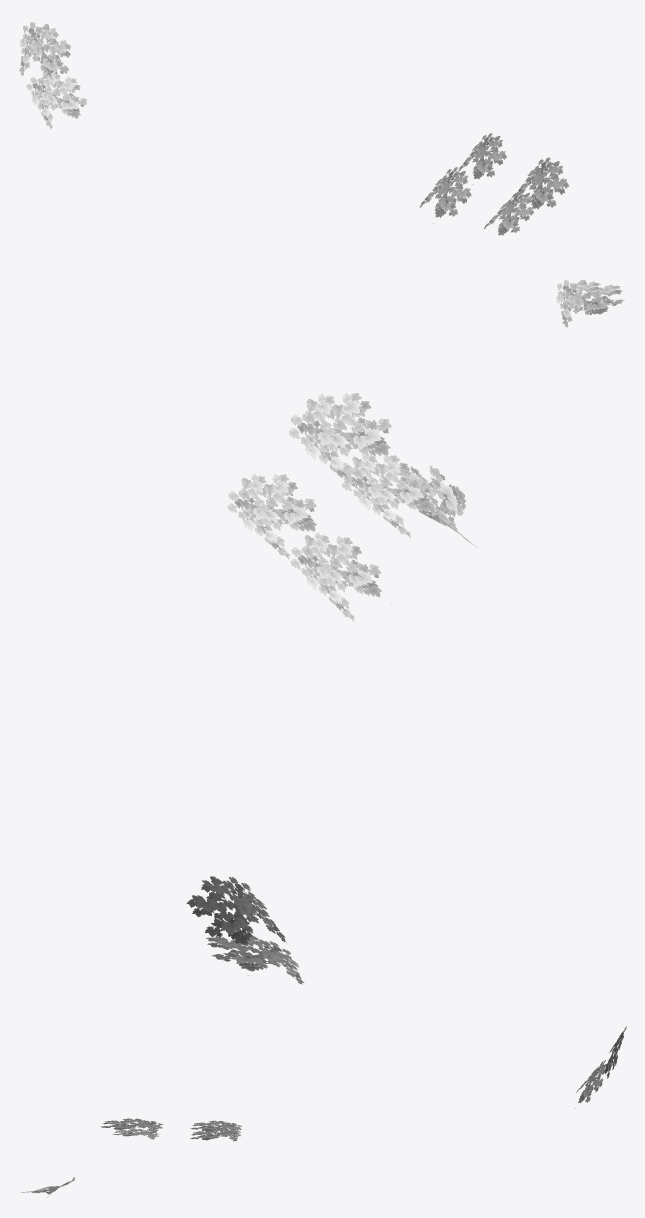
The model's file is Forest_building_056_16a.FBX.
3 renders of one model, top to bottom at view 1: azimuth 30°, elevation 25°; view 2: azimuth 150°, elevation 25°; view 3: azimuth 270°, elevation 25°, orthographic. The views are drawn at different scales.
Parts seen in each view (by area): view 1: Forest_building_056_16a; view 2: Forest_building_056_16a; view 3: Forest_building_056_16a.
Part boxes in pixels (x1,y1,x2,y2): Forest_building_056_16a: [19, 22, 624, 327]; Forest_building_056_16a: [186, 393, 477, 984]; Forest_building_056_16a: [20, 1026, 626, 1196].
Size of the model in its own units: 1120 by 470 by 2474.
Materials: 1 (1 with a texture image).
